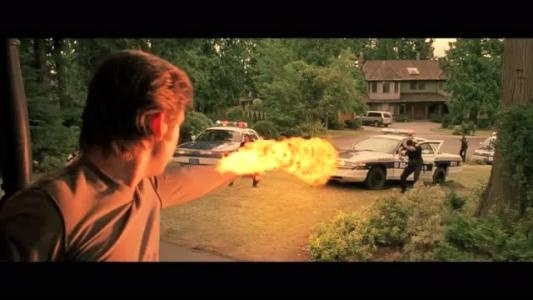fire: (212, 135, 344, 183)
